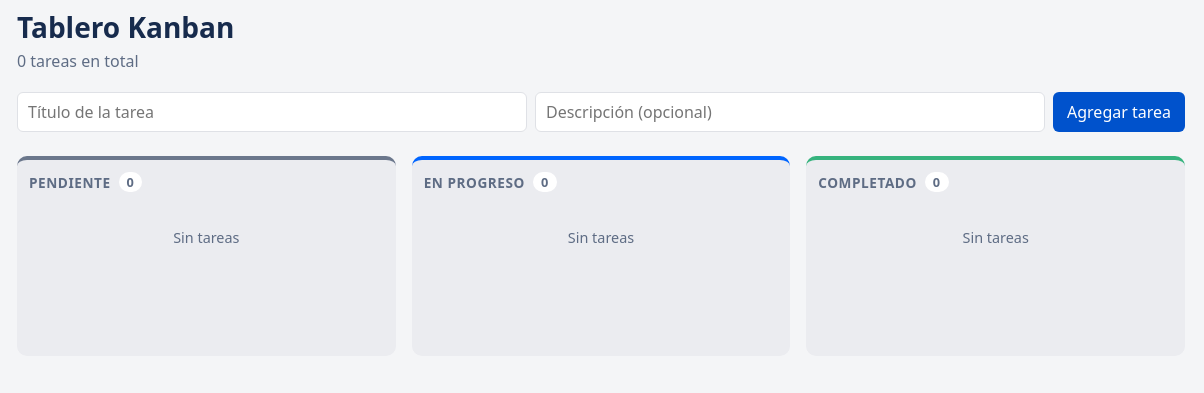
Test: App Kanban › edita una tarea existente
In the field labelled "Título de la tarea": (272, 112) [17,92,527,132], type "Tarea vieja"
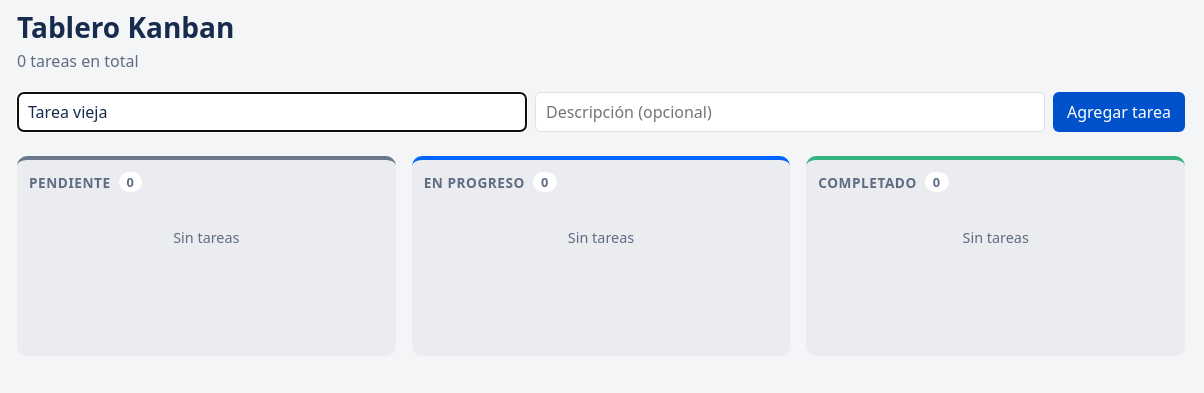
Click the button "Agregar tarea": (1119, 112) [1053,92,1185,132]
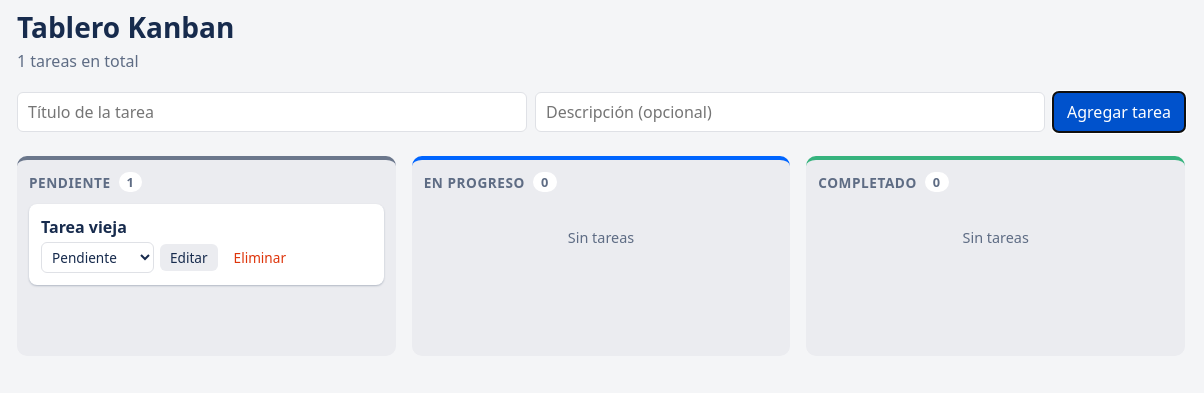
Click the button "Editar": (189, 258) [160,244,218,271]
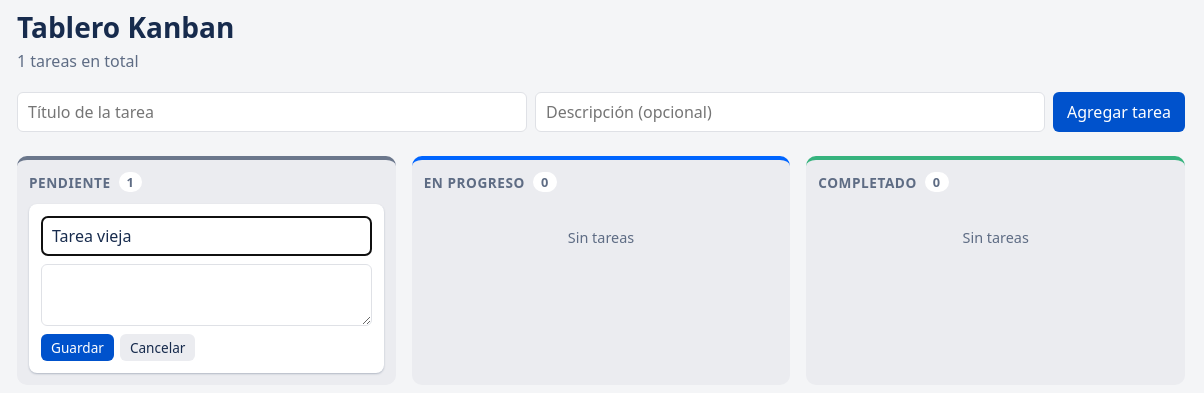
Replace the text in the field named "Editar título" with "Tarea nueva": (206, 236) [41,216,372,256]
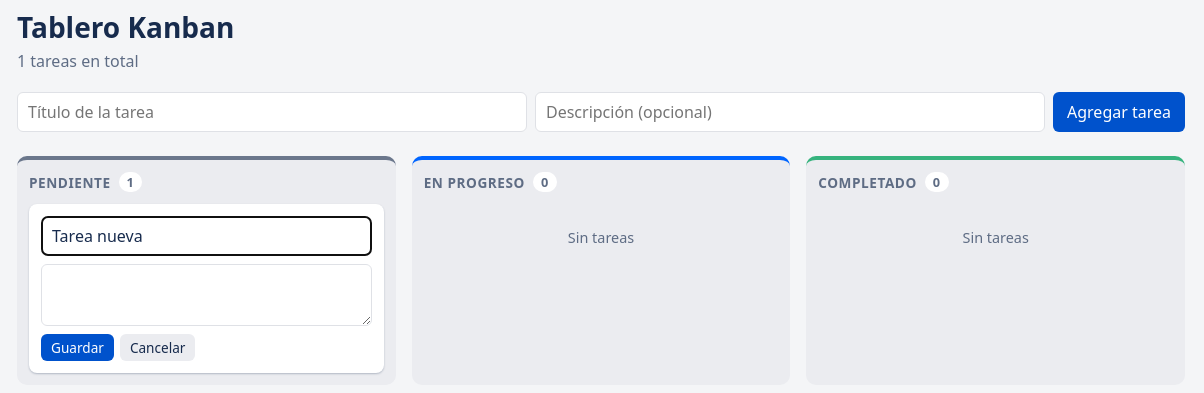
Click the button "Guardar": (77, 348) [41,334,114,361]
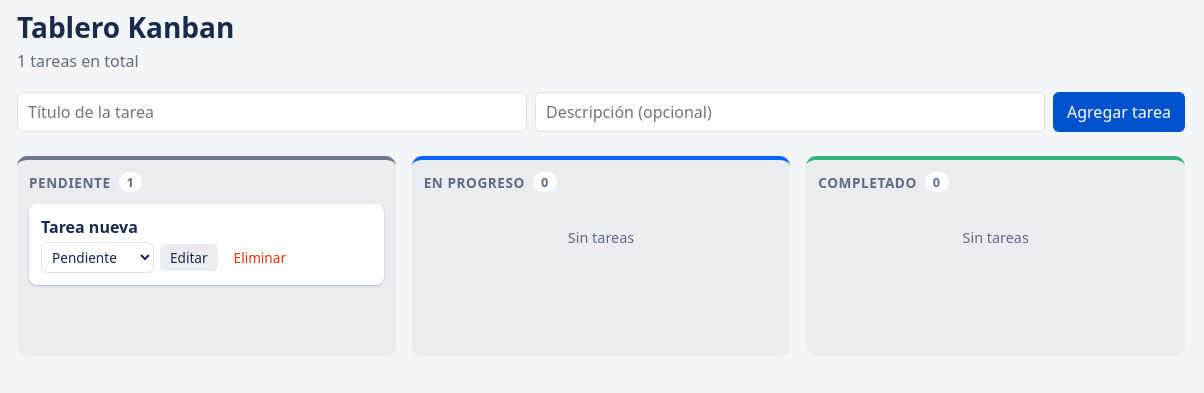
Expected: the heading "Tarea vieja" is not shown
Expected: the heading "Tarea nueva" is shown, [41,216,138,238]
